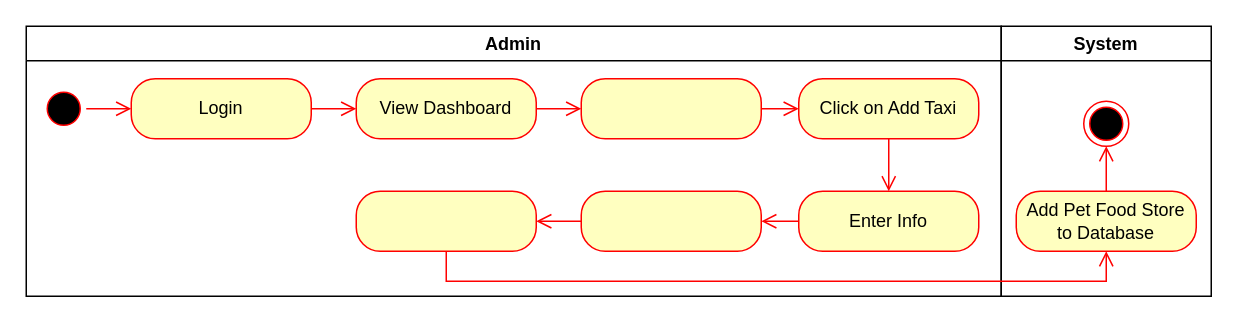
The diagram is 1238 pixels wide and 323 high, and some of its shapes have lost their labels. Each missing label, with the centre of its shape:
"Click on Add" goes at point (445, 220).
"Click on Taxis" goes at point (670, 108).
"Select Map Location" goes at point (670, 220).
